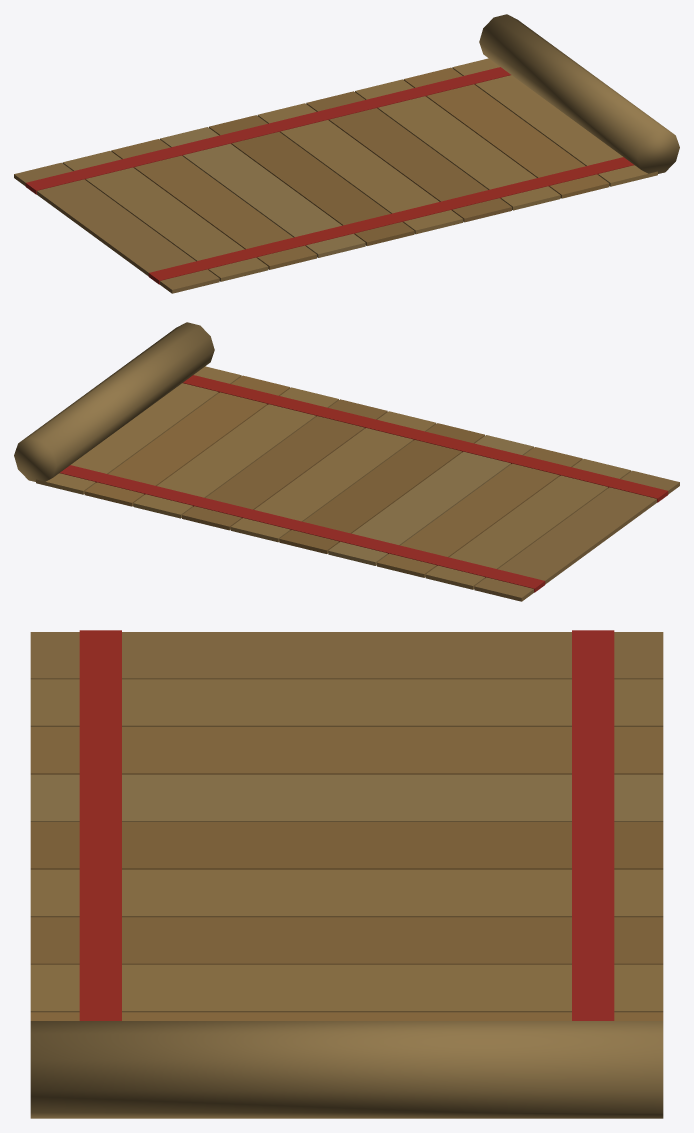
File: PRP_Woven_Mat_A.glb
3 views of the same model, one above another, from view 1: azimuth 30°, elevation 25°; view 2: azimuth 150°, elevation 25°; view 3: azimuth 270°, elevation 25° (orthographic). The views are drawn at different scales.
Visible parts, largest first — view 1: PRP_Woven_Mat_A_Mesh; view 2: PRP_Woven_Mat_A_Mesh; view 3: PRP_Woven_Mat_A_Mesh.
Part boxes in pixels (x1,y1,x2,y2): PRP_Woven_Mat_A_Mesh: [14, 14, 679, 293]; PRP_Woven_Mat_A_Mesh: [14, 322, 679, 601]; PRP_Woven_Mat_A_Mesh: [30, 630, 663, 1118].
Bounding box in the file's own units: 1.67 × 0.1366 × 0.9.
